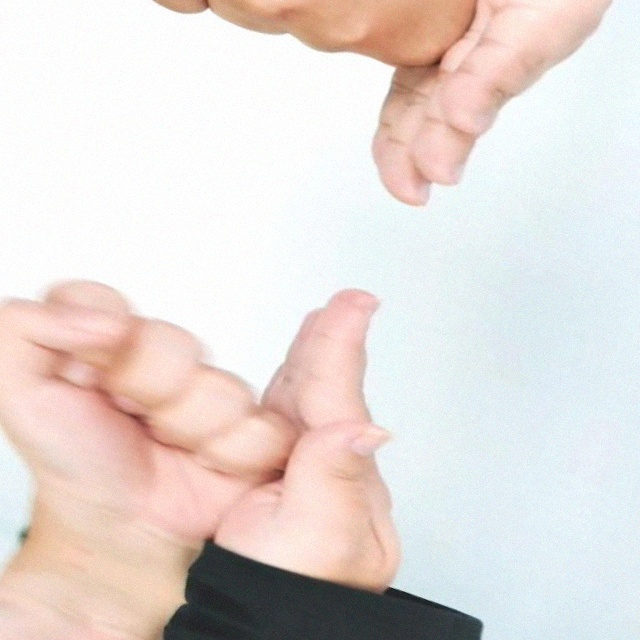Rock: (0, 243, 325, 563), (0, 543, 201, 640)
